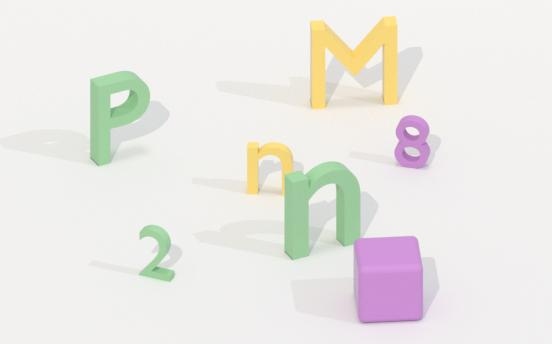2: (133, 221, 183, 284)
8: (389, 112, 437, 171)
M-hoa: (303, 18, 402, 112)
hop: (345, 232, 432, 324)
n: (277, 160, 373, 258), (243, 139, 298, 198)
p: (88, 77, 150, 165)
